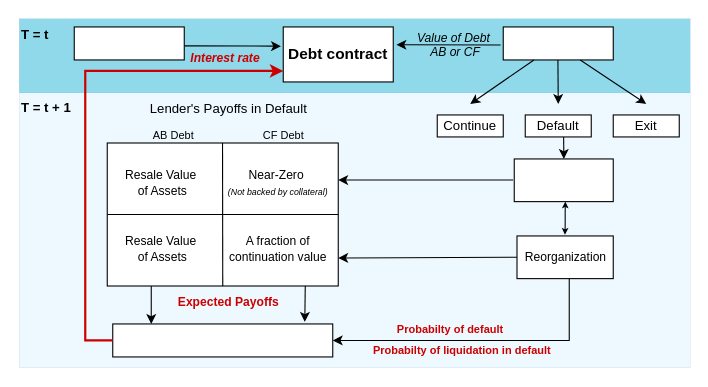
Image size: 708x387. Some labels were removed from this diagram. The shapes that lost their labels are listed below. From the top down, each one's centre as x and y in pixels, then its label:
At pixel 128 43: "Lender".
At pixel 557 43: "Firm".
At pixel 563 180: "Liqidation".
At pixel 222 340: "Zero profit conditon".
